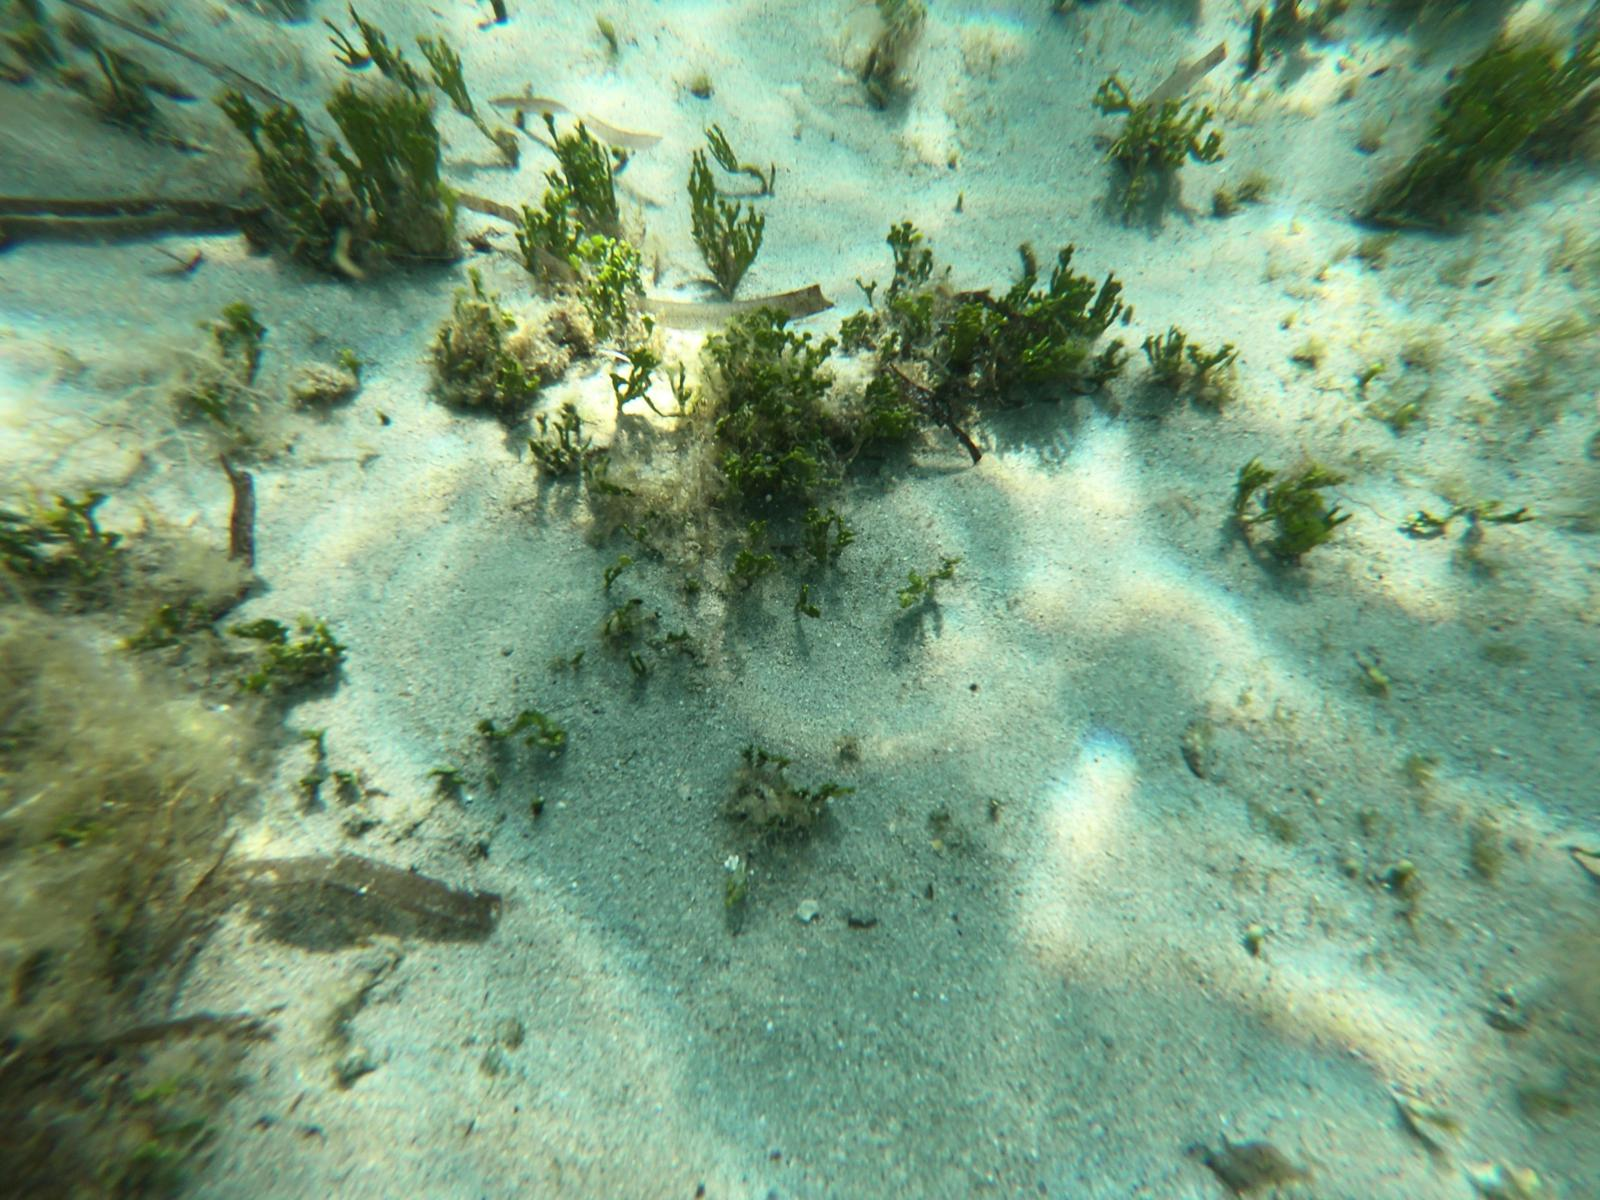halimeda: (1392, 44, 1570, 200), (702, 310, 833, 484), (316, 82, 447, 242), (215, 89, 336, 251), (1007, 258, 1126, 374), (1095, 78, 1220, 182), (1232, 458, 1346, 568), (682, 147, 763, 299), (229, 616, 345, 695), (556, 234, 637, 330), (549, 116, 619, 221), (843, 377, 925, 464), (323, 13, 414, 89), (930, 303, 995, 392), (446, 337, 532, 401), (527, 416, 598, 490), (59, 500, 110, 600), (210, 300, 263, 387), (884, 221, 939, 300), (423, 39, 476, 116), (606, 345, 659, 417), (517, 202, 577, 260), (808, 511, 868, 567), (898, 555, 954, 610), (1145, 328, 1186, 384), (1182, 338, 1233, 378), (732, 548, 772, 592), (459, 297, 495, 339), (843, 310, 876, 352), (603, 555, 627, 589)
